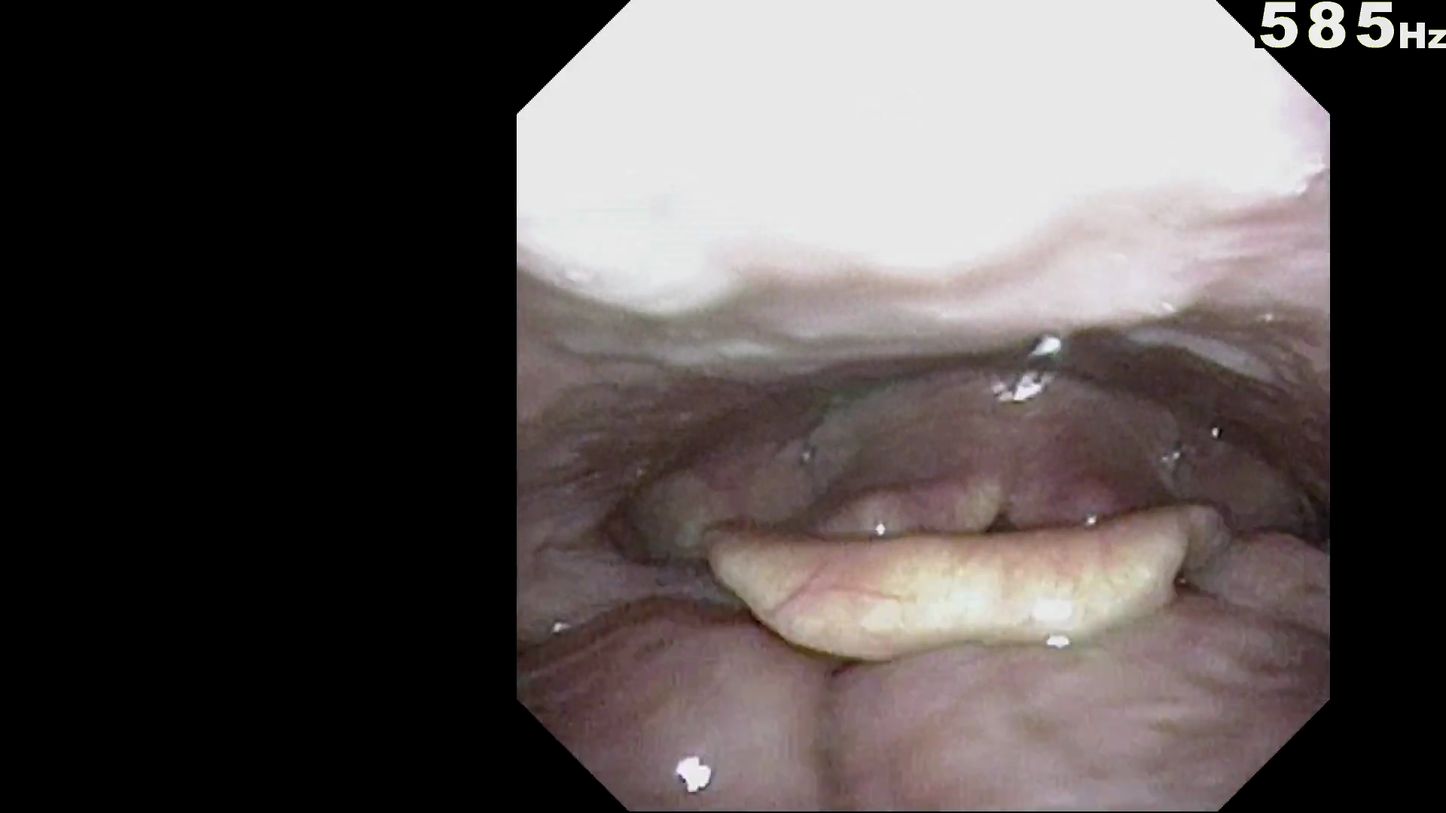epiglottis: (689, 517, 1230, 656)
